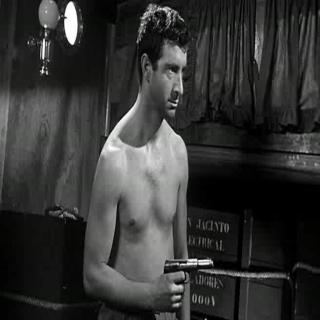gun: (159, 252, 214, 312)
